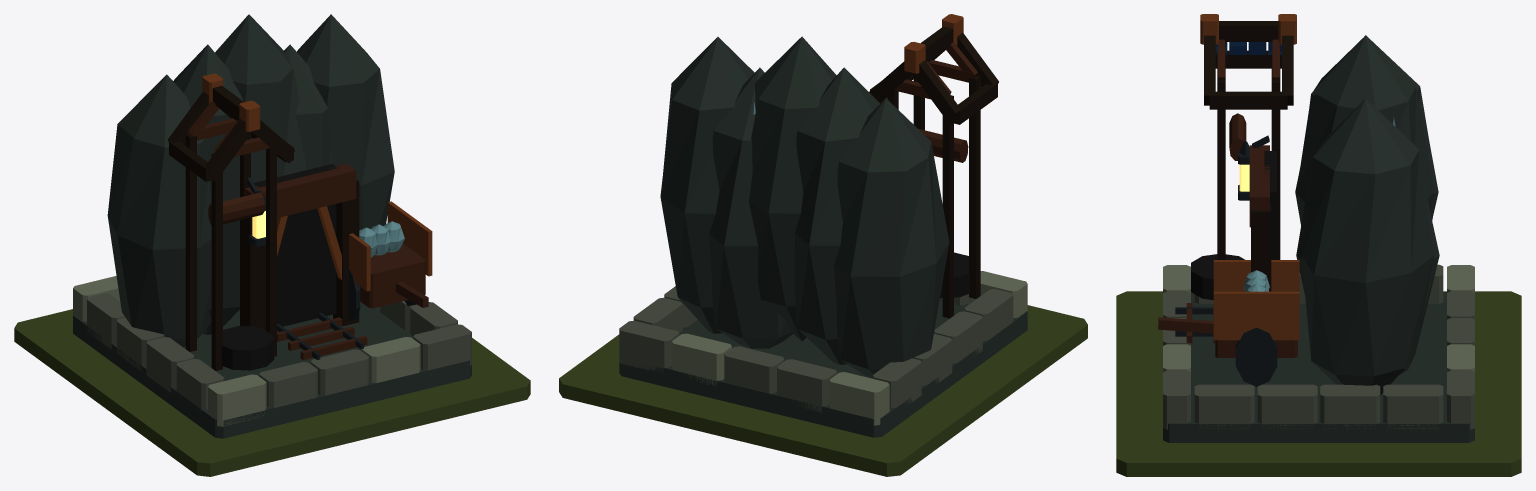
The model's file is deephole_t6.glb.
3 views of the same model, side by side, from view 1: azimuth 30°, elevation 25°; view 2: azimuth 150°, elevation 25°; view 3: azimuth 270°, elevation 25° (orthographic). The views are drawn at different scales.
Visible parts, largest first — view 1: MMR | deephole | T06 Architecture.001, MMR | deephole | Tier 06 Ground.001; view 2: MMR | deephole | T06 Architecture.001, MMR | deephole | Tier 06 Ground.001; view 3: MMR | deephole | T06 Architecture.001, MMR | deephole | Tier 06 Ground.001.
Part boxes in pixels (box(x1,y1,x2,y2)): MMR | deephole | T06 Architecture.001: box(73, 14, 471, 438); MMR | deephole | Tier 06 Ground.001: box(14, 309, 530, 476); MMR | deephole | T06 Architecture.001: box(619, 14, 1027, 437); MMR | deephole | Tier 06 Ground.001: box(559, 305, 1087, 476); MMR | deephole | T06 Architecture.001: box(1158, 14, 1474, 442); MMR | deephole | Tier 06 Ground.001: box(1116, 291, 1521, 476).
Bounding box in the file's own units: 1.3 × 1.26 × 1.3.
2 materials, 1 textured.
